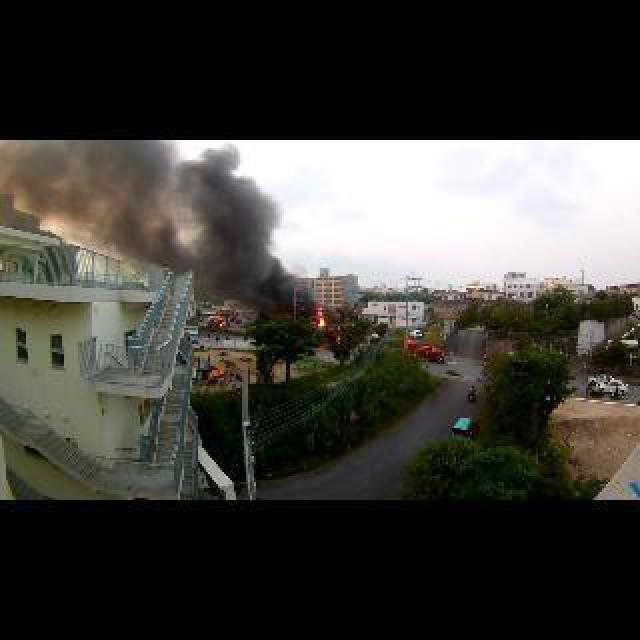Fire: (315, 308, 330, 330)
Smoke: (0, 138, 317, 337)
